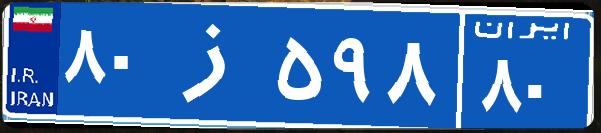0: (110, 28, 158, 105), (525, 38, 570, 115)
5: (273, 28, 330, 110)
8: (385, 28, 445, 110), (57, 26, 110, 107), (475, 38, 525, 113)
9: (330, 28, 385, 110)
ز: (158, 15, 273, 115)
